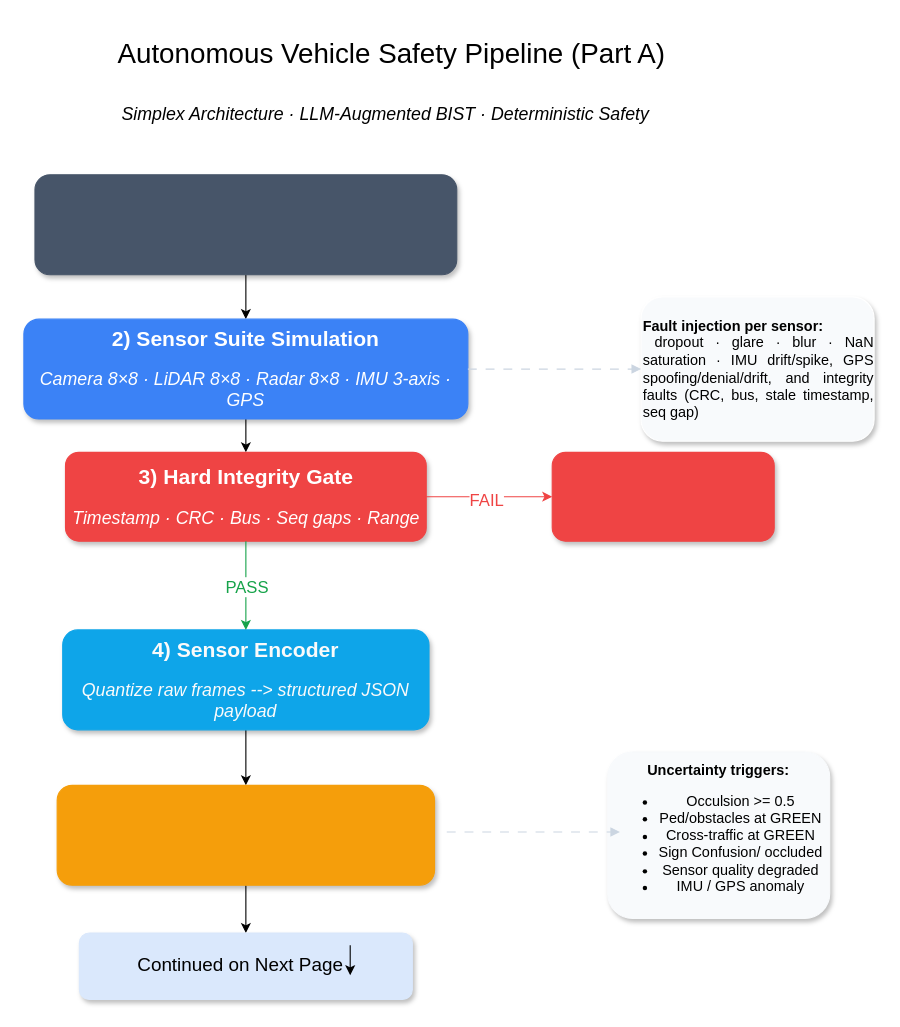
This 900x1027 diagram has some shape labels left out. The shapes that lost their labels are listed below. From the top down, each one's centre as x and y in pixels, then its label:
(x=246, y=225): 1) Scenario Specification 50 scenarios × 5 iterations (per scenario RNG seed)
(x=664, y=498): FULL_MRM_NOW (Immediately Safe Stop)
(x=246, y=836): 5) Runtime Monitor SOTIF soft checks · sensor quality · env anomaly
